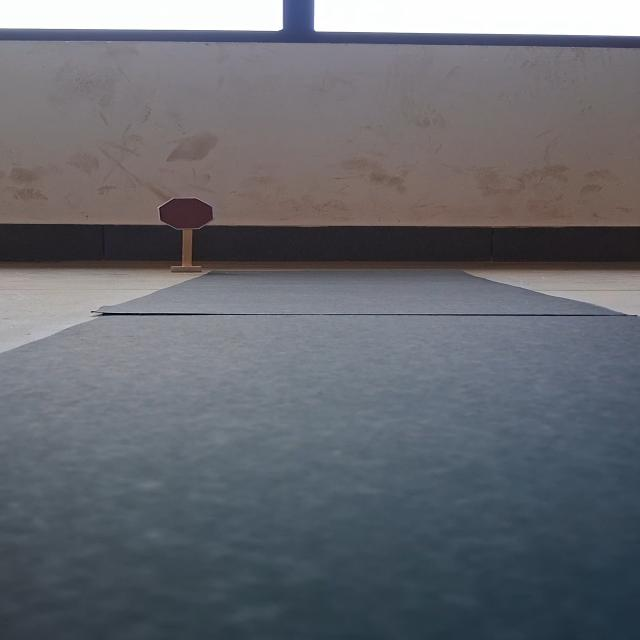Stop: (158, 198, 215, 230)
